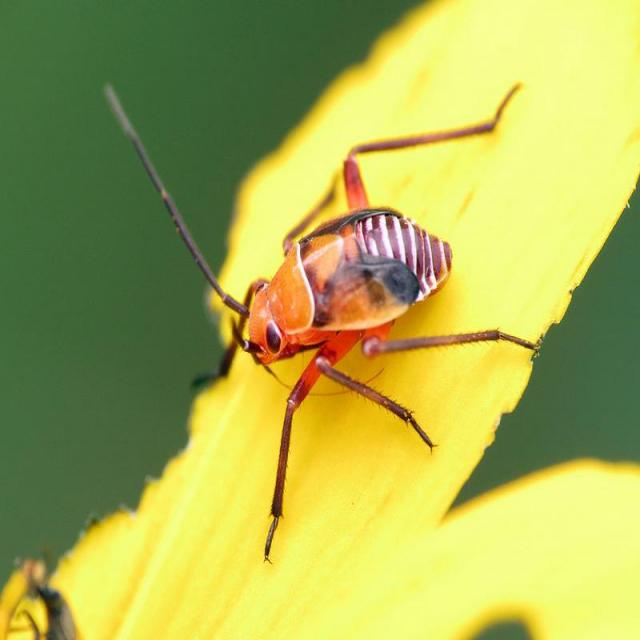Miridae-Adult-: (82, 53, 544, 470)
